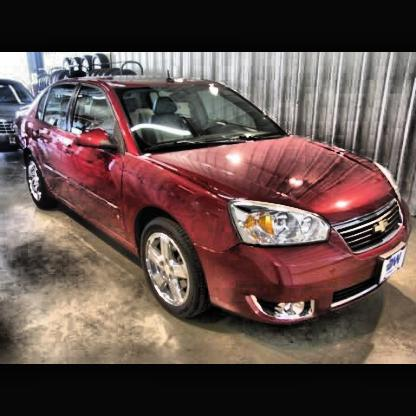Chevrolet Malibu Sedan 2007: (16, 79, 402, 326)
